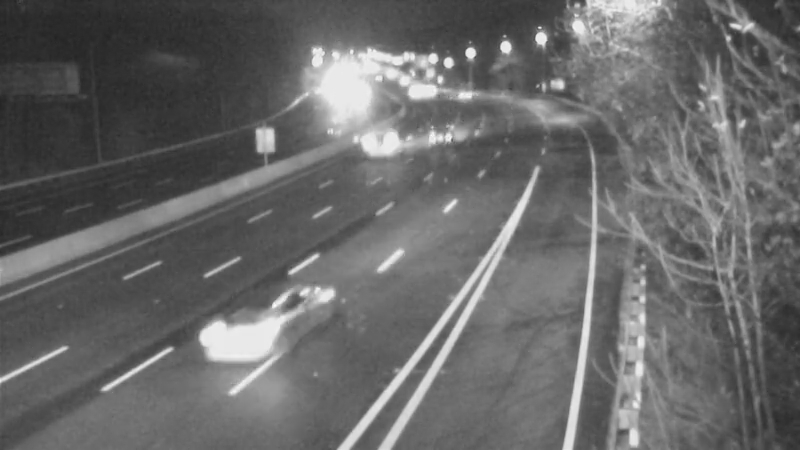vehicle: (191, 284, 301, 394), (389, 66, 439, 116), (438, 72, 488, 122), (414, 106, 464, 156), (357, 113, 407, 163)
